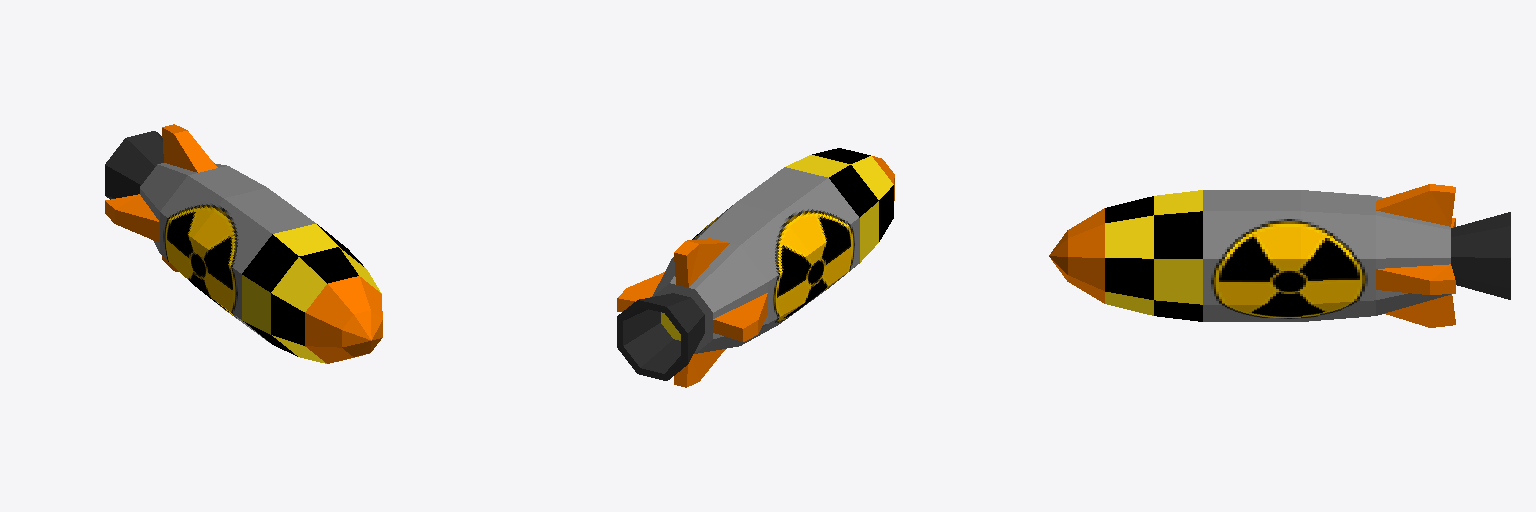
The picture shows the model from 3 angles: view 1: azimuth 30°, elevation 25°; view 2: azimuth 150°, elevation 25°; view 3: azimuth 270°, elevation 25°; orthographic projection.
Parts seen in each view (by area): view 1: Cylinder; view 2: Cylinder; view 3: Cylinder.
Boxes of the visible parts, x1,y1,x2,y2 form: Cylinder: [105, 124, 382, 363]; Cylinder: [617, 148, 894, 387]; Cylinder: [1049, 184, 1510, 327].
Size of the model in its own units: 5.04 by 5.04 by 15.38.
Materials: 1 (1 with a texture image).